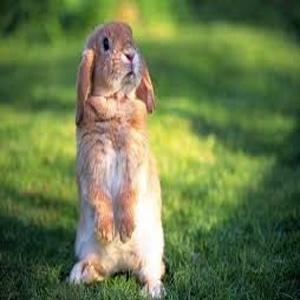rabbit: (69, 23, 164, 297)
